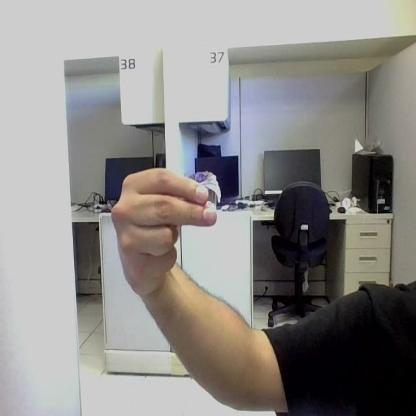H: (112, 168, 215, 292)
